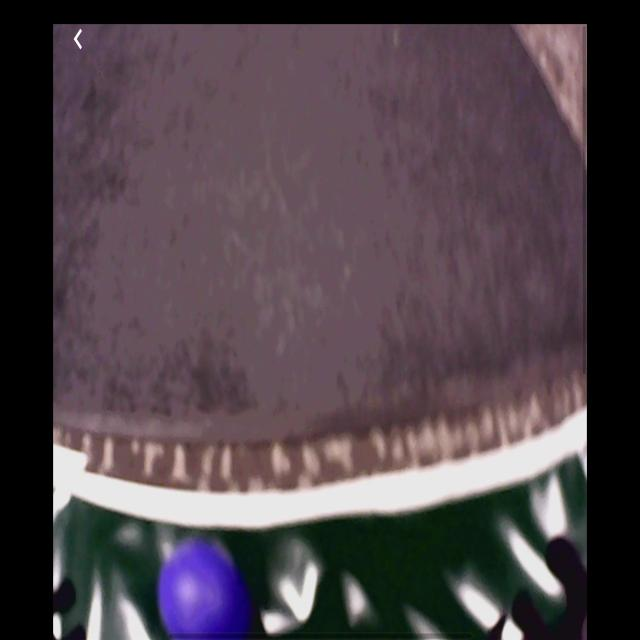ball: (158, 544, 247, 640)
